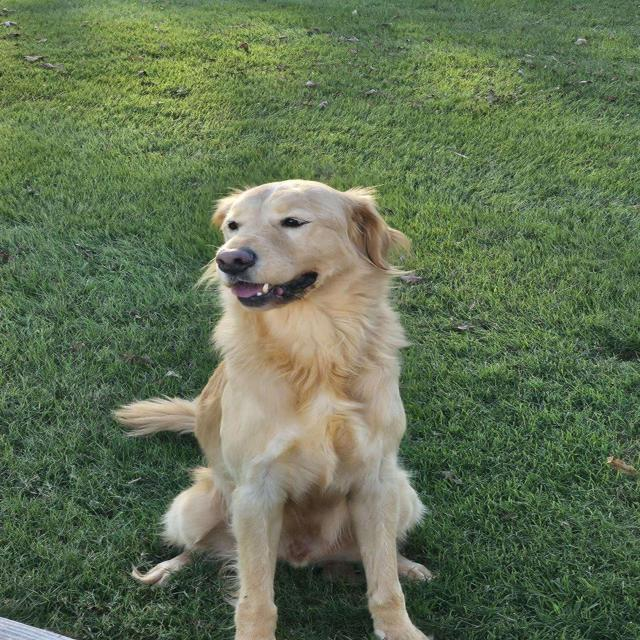golden_retriever_dog: (188, 166, 424, 326)
